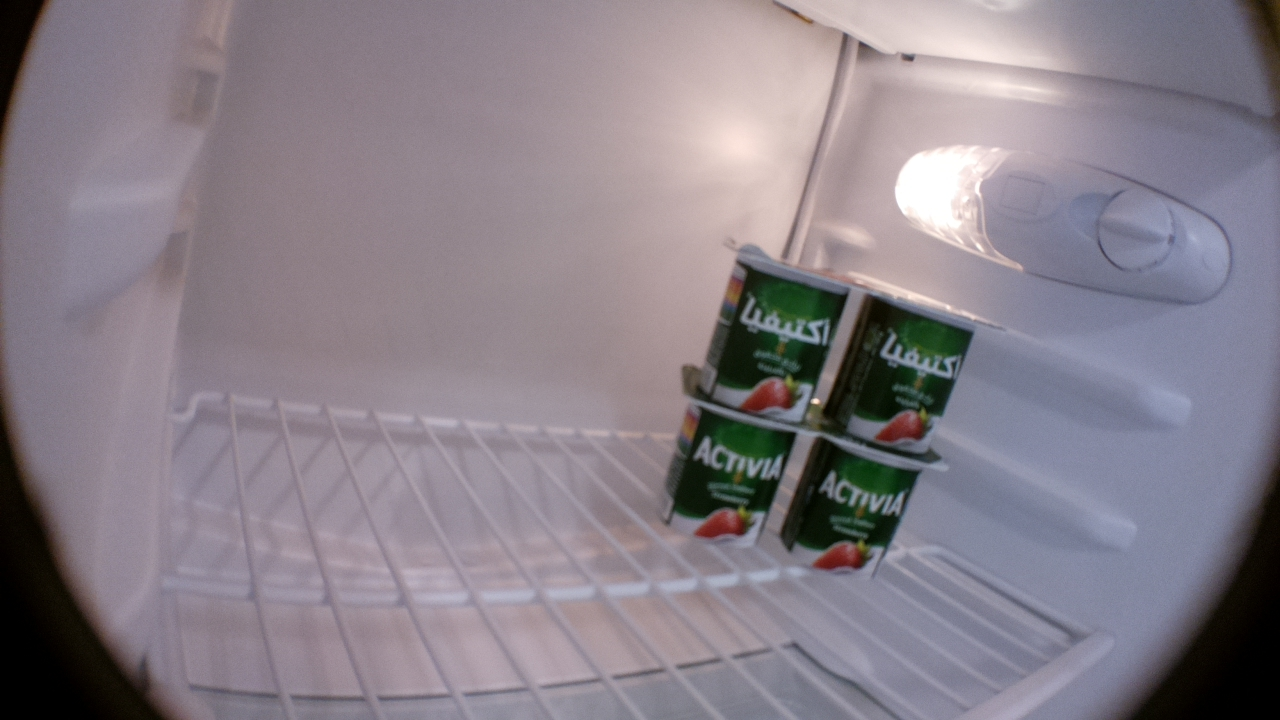yoghurt: (831, 276, 1008, 454), (705, 238, 852, 424), (778, 435, 954, 584), (655, 402, 818, 549)
